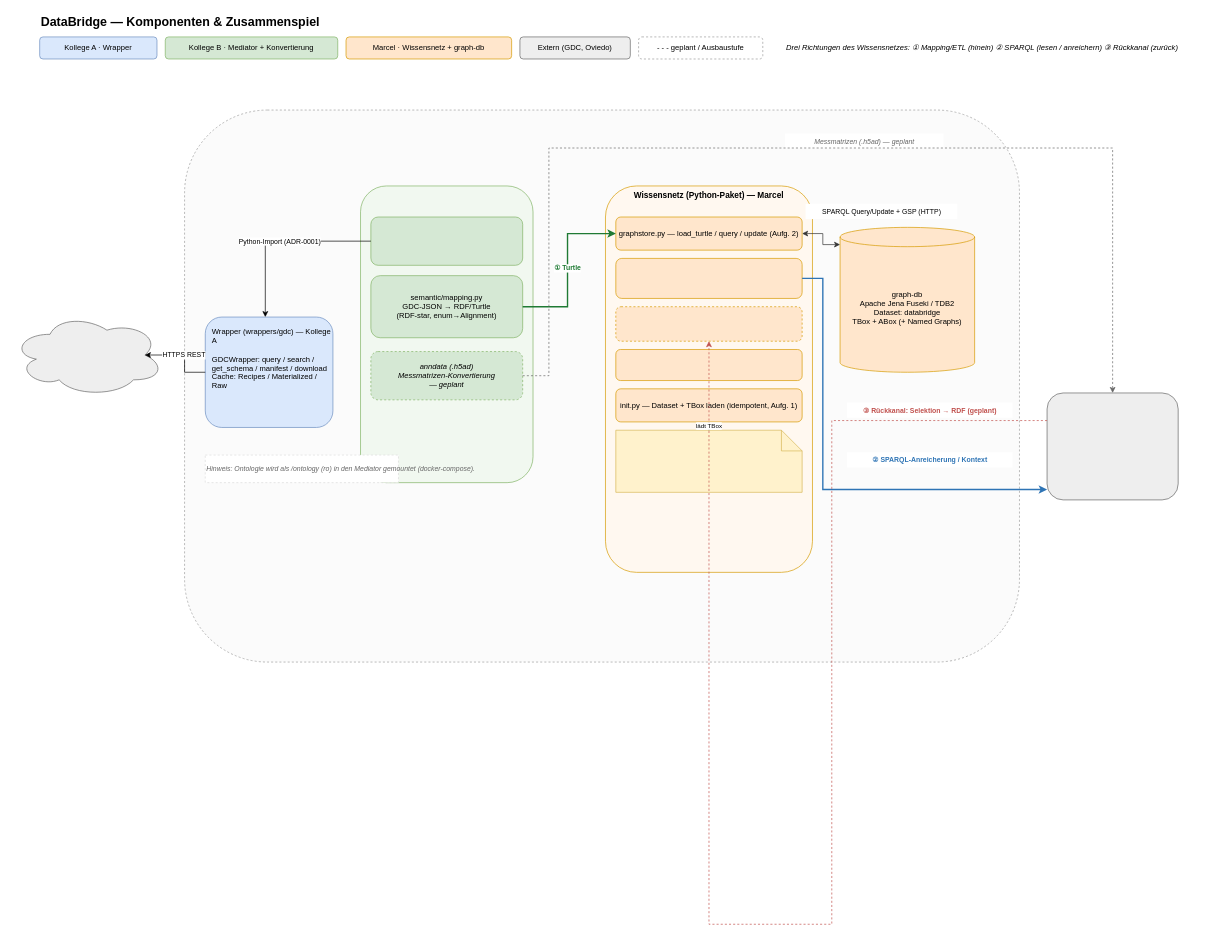
Some shapes in this 1225 by 942 pixel diagram are drawn without their labels. The shapes that lost their labels are listed below. From the top down, each one's box as (x1, y1, x2, y2) in pixels, then its label:
(370, 216, 523, 265): REST-Endpunkte /health /query /schema /manifest /transform /ontology
(615, 258, 802, 298): enrichment.py — SPARQL: Hierarchie (subClassOf*), Kontext ② (Aufg. 3)
(360, 185, 533, 483): Mediator (FastAPI) — Kollege B
(615, 306, 802, 341): feedback.py — Rückkanal ③ (Selektion→RDF) — geplant
(11, 313, 164, 396): GDC / TCGA API (Genomic Data Commons) YAML/JSON-Schema + Daten
(615, 349, 802, 381): cli.py — status / init / load / query / hierarchy / context
(184, 109, 1019, 662): DataBridge (Docker Compose)
(615, 430, 802, 492): Ontologie databridge-core.ttl (TBox) + alignment/ (enum → NCIt)
(1046, 392, 1178, 500): Oviedo-Tools MP-Cancer · GEM-i · dual iDR (Visual Analytics / Frontend)
